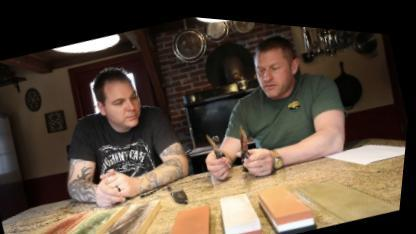knife: (232, 108, 278, 168), (197, 121, 236, 166)
